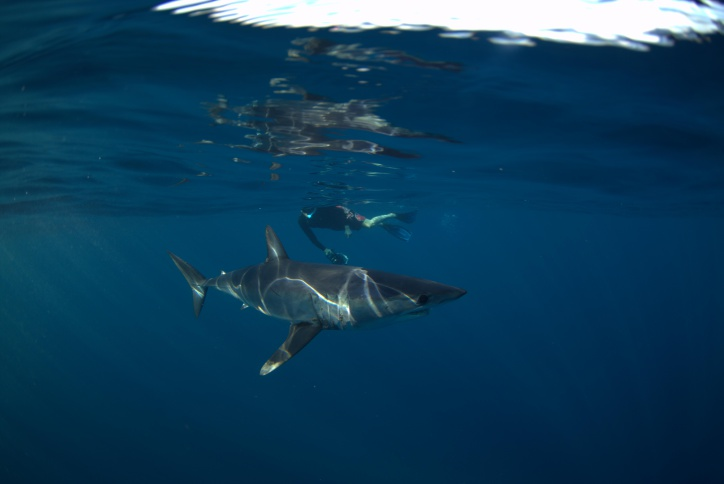Mako: (150, 223, 482, 381)
